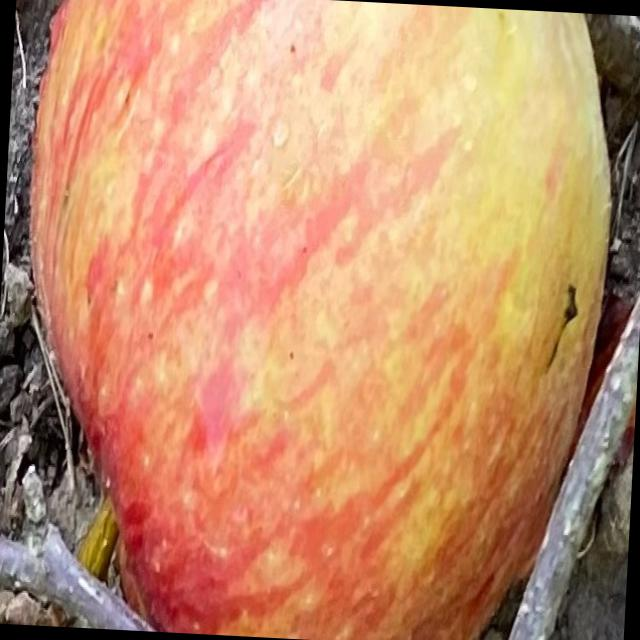Apples: (7, 0, 623, 639)
